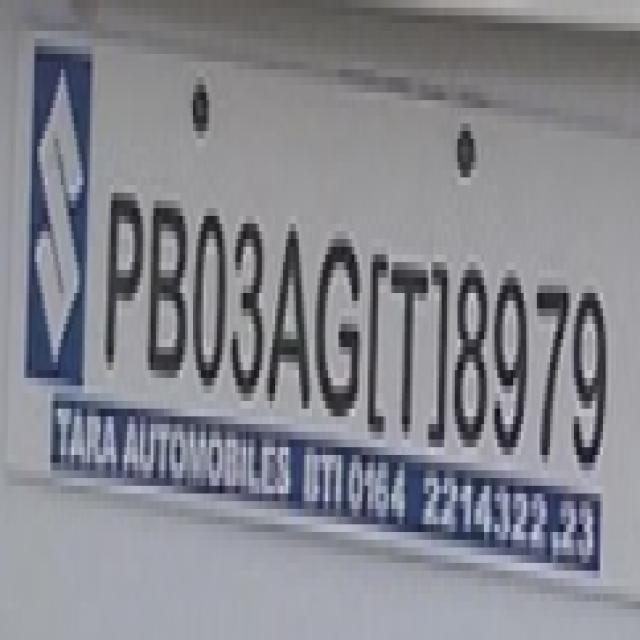0: (190, 208, 230, 386)
3: (230, 204, 266, 413)
7: (532, 268, 570, 470)
8: (453, 252, 489, 452)
9: (492, 262, 528, 462), (573, 286, 608, 480)
A: (267, 218, 312, 422)
B: (145, 202, 191, 382)
G: (313, 228, 362, 428)
P: (100, 188, 144, 380)
T: (388, 254, 431, 446)
